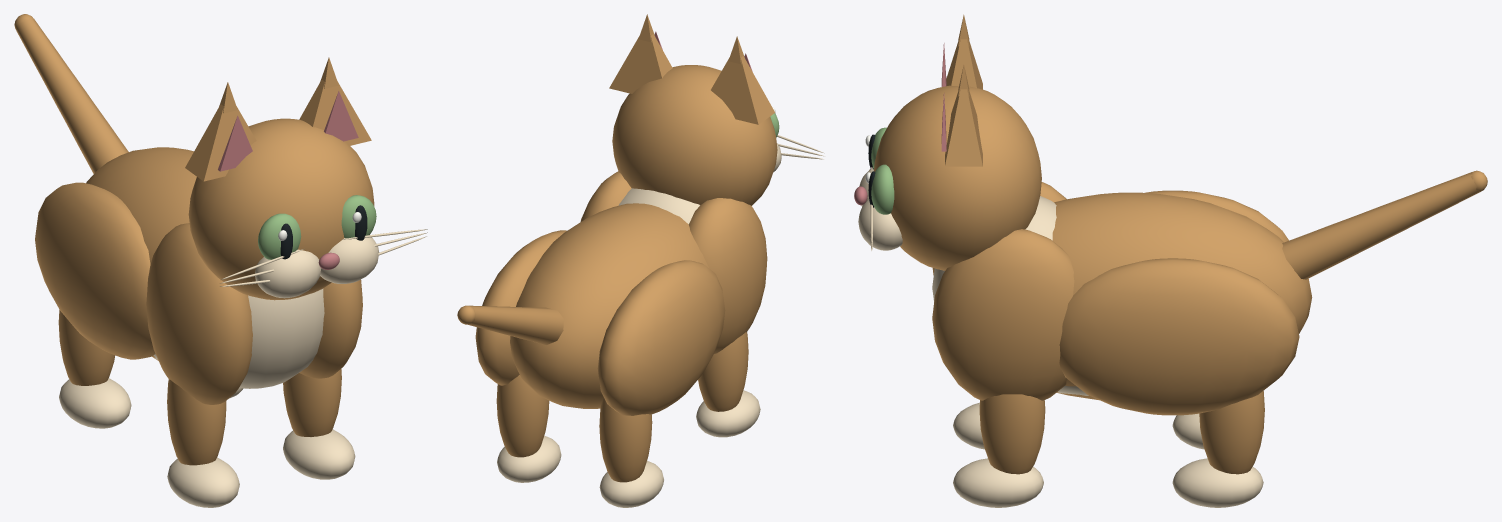
File: LM_PET_Cats.glb
3 views of the same model, side by side, from view 1: azimuth 30°, elevation 25°; view 2: azimuth 150°, elevation 25°; view 3: azimuth 270°, elevation 25° (orthographic). The views are drawn at different scales.
Visible parts, largest first — view 1: pet-head-shell, pet-fluff--1-0, pet-ruff--1-0, pet-body-shell, pet-chest, pet-tail-segment, pet-leg-shin-fl, pet-ruff-1-0, pet-leg-shin-fr, pet-paw-shell-fl, pet-paw-shell-fr, pet-paw-shell-bl (+9 smaller); view 2: pet-body-shell, pet-head-shell, pet-fluff--1-0, pet-ruff--1-0, pet-fluff-1-0, pet-leg-shin-bl, pet-leg-shin-br, pet-tail-segment, pet-leg-shin-fl, pet-ear-shell-l, pet-ear-shell-r, pet-paw-shell-fl (+4 smaller); view 3: pet-fluff-1-0, pet-head-shell, pet-ruff-1-0, pet-body-shell, pet-tail-segment, pet-leg-shin-fr, pet-leg-shin-br, pet-paw-shell-br, pet-paw-shell-fr, pet-ear-shell-r, pet-cheek-r, pet-fluff--1-0 (+5 smaller).
Boxes of the visible parts, x1,y1,x2,y2 form: pet-head-shell: (188,118,374,300); pet-fluff--1-0: (35,182,155,359); pet-ruff--1-0: (146,223,252,404); pet-body-shell: (86,147,196,360); pet-chest: (239,288,324,388); pet-tail-segment: (16,17,128,173); pet-leg-shin-fl: (167,379,226,465); pet-ruff-1-0: (299,279,362,378); pet-leg-shin-fr: (283,369,341,436); pet-paw-shell-fl: (167,457,239,507); pet-paw-shell-fr: (283,429,355,479); pet-paw-shell-bl: (59,378,131,428); pet-body-shell: (510,203,708,408); pet-head-shell: (612,65,777,205); pet-fluff--1-0: (597,260,725,415); pet-ruff--1-0: (688,198,767,353); pet-fluff-1-0: (475,230,566,385); pet-leg-shin-bl: (599,398,652,482); pet-leg-shin-br: (496,375,549,457); pet-tail-segment: (468,305,563,344); pet-leg-shin-fl: (698,332,748,411); pet-ear-shell-l: (711,56,774,124); pet-ear-shell-r: (609,34,672,93); pet-paw-shell-fl: (696,390,760,437); pet-fluff-1-0: (1059,258,1299,415); pet-head-shell: (874,85,1041,270); pet-ruff-1-0: (932,229,1074,400); pet-body-shell: (1052,192,1312,400); pet-tail-segment: (1282,172,1480,279); pet-leg-shin-fr: (979,394,1045,474); pet-leg-shin-br: (1199,391,1264,474); pet-paw-shell-br: (1172,458,1263,507); pet-paw-shell-fr: (953,458,1043,507); pet-ear-shell-r: (945,89,982,166); pet-cheek-r: (858,199,902,250); pet-fluff--1-0: (1145,190,1288,242).
Size of the model in its own units: 0.58 by 1.14 by 1.5.
